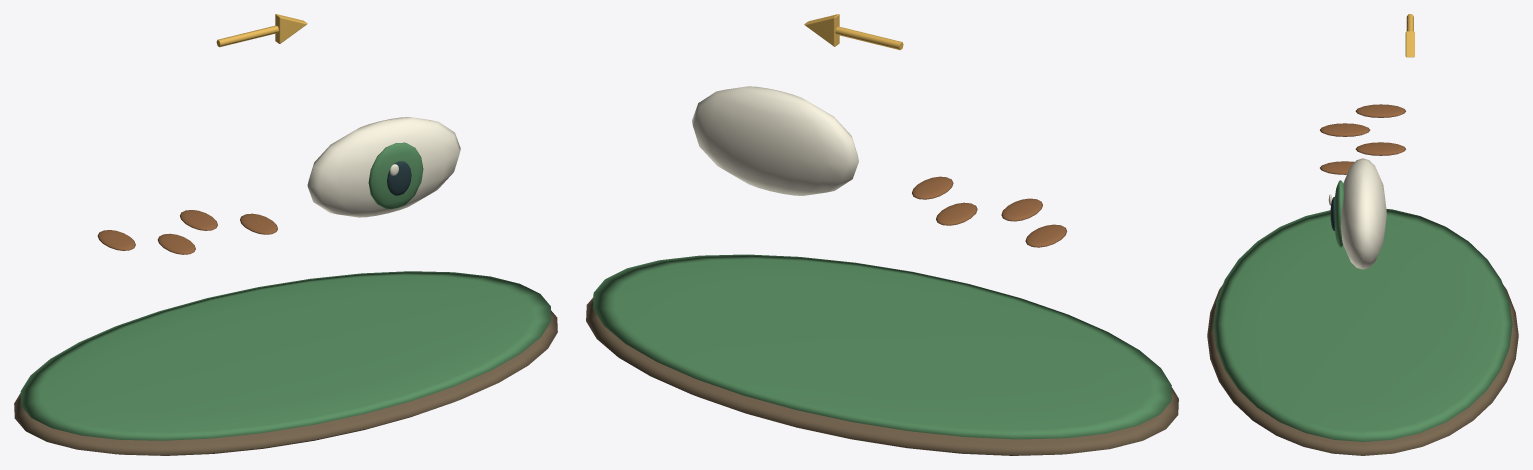
Rendered from complete-third-follow-continuing-eye.glb.
The picture shows the model from 3 angles, left to right: view 1: azimuth 30°, elevation 25°; view 2: azimuth 150°, elevation 25°; view 3: azimuth 270°, elevation 25°; orthographic projection. The views are drawn at different scales.
Parts seen in each view (by area): view 1: complete-third-follow-continuing-eye_surface_01, complete-third-follow-continuing-eye_surface_00, complete-third-follow-continuing-eye_surface_03, complete-third-follow-continuing-eye_surface_02, complete-third-follow-continuing-eye_surface_05, complete-third-follow-continuing-eye_surface_04; view 2: complete-third-follow-continuing-eye_surface_01, complete-third-follow-continuing-eye_surface_03, complete-third-follow-continuing-eye_surface_00, complete-third-follow-continuing-eye_surface_02, complete-third-follow-continuing-eye_surface_05; view 3: complete-third-follow-continuing-eye_surface_01, complete-third-follow-continuing-eye_surface_00, complete-third-follow-continuing-eye_surface_03, complete-third-follow-continuing-eye_surface_02, complete-third-follow-continuing-eye_surface_05.
Part boxes in pixels (bbox=[...]): complete-third-follow-continuing-eye_surface_01: bbox=[20, 142, 551, 440]; complete-third-follow-continuing-eye_surface_00: bbox=[14, 310, 557, 455]; complete-third-follow-continuing-eye_surface_03: bbox=[307, 117, 460, 217]; complete-third-follow-continuing-eye_surface_02: bbox=[97, 210, 277, 254]; complete-third-follow-continuing-eye_surface_05: bbox=[216, 14, 307, 47]; complete-third-follow-continuing-eye_surface_04: bbox=[387, 161, 411, 195]; complete-third-follow-continuing-eye_surface_01: bbox=[593, 254, 1171, 439]; complete-third-follow-continuing-eye_surface_03: bbox=[692, 86, 858, 195]; complete-third-follow-continuing-eye_surface_00: bbox=[586, 297, 1178, 455]; complete-third-follow-continuing-eye_surface_02: bbox=[912, 176, 1066, 247]; complete-third-follow-continuing-eye_surface_05: bbox=[804, 14, 903, 50]; complete-third-follow-continuing-eye_surface_01: bbox=[1213, 180, 1512, 441]; complete-third-follow-continuing-eye_surface_00: bbox=[1207, 285, 1518, 455]; complete-third-follow-continuing-eye_surface_03: bbox=[1328, 158, 1386, 269]; complete-third-follow-continuing-eye_surface_02: bbox=[1320, 104, 1405, 174]; complete-third-follow-continuing-eye_surface_05: bbox=[1405, 14, 1414, 57].
Bounding box in the file's own units: 4.56 × 2.89 × 2.5.
